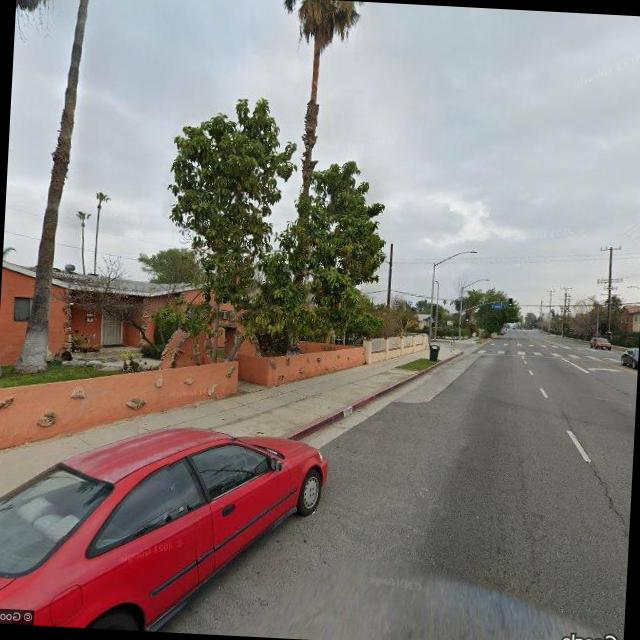pothole: (558, 398, 632, 528)
